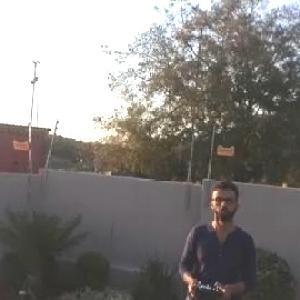follow: (171, 171, 259, 299)
